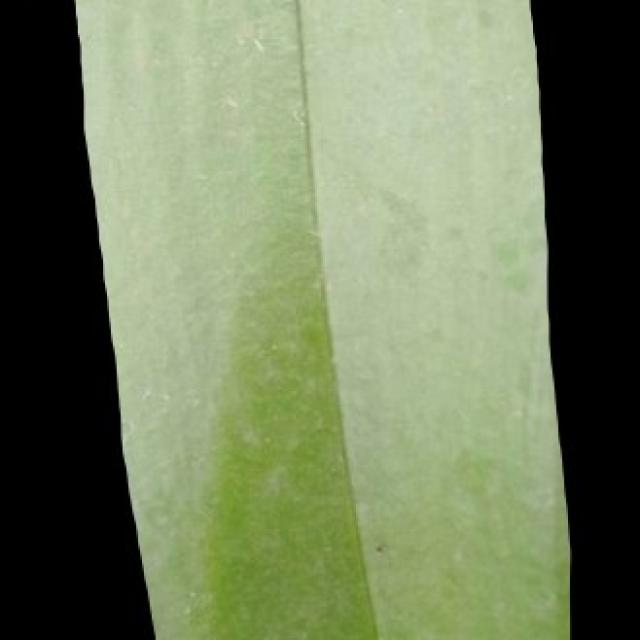mite: (204, 325, 344, 574), (216, 333, 325, 465), (356, 521, 407, 574), (490, 233, 531, 296), (364, 531, 397, 564), (257, 333, 282, 360), (370, 537, 389, 558), (372, 541, 385, 554)
